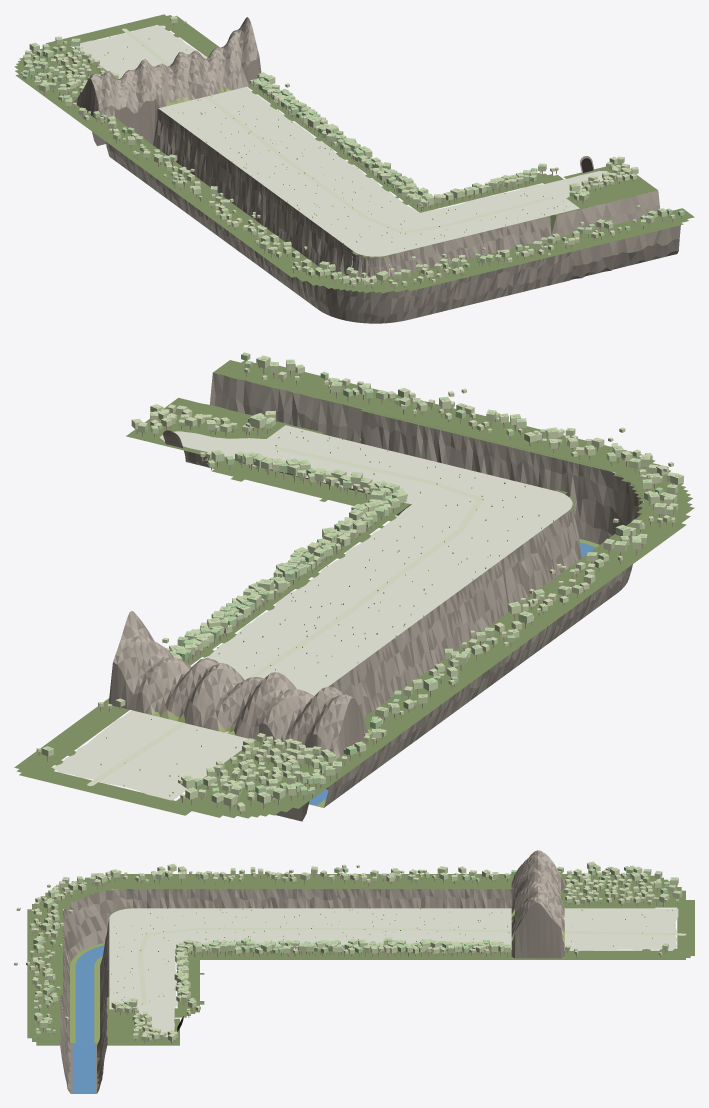
Rendered from codo.glb.
3 views of the same model, one above another, from view 1: azimuth 30°, elevation 25°; view 2: azimuth 150°, elevation 25°; view 3: azimuth 270°, elevation 25° (orthographic). The views are drawn at different scales.
Parts seen in each view (by area): view 1: CodoMeadow, CodoForestFloor, CodoOesteCanyon, CodoCierreRock, CodoSurCanyon, CodoEsteCanyon, CodoEsquinaCanyon, CodoPath, CodoCuevaMeadow; view 2: CodoMeadow, CodoForestFloor, CodoOesteCanyon, CodoCierreRock, CodoSurCanyon, CodoEsteCanyon, CodoEsquinaCanyon, CodoPath, CodoCuevaMeadow, CodoNorteForestFloor, CodoCuevaForestFloor; view 3: CodoMeadow, CodoForestFloor, CodoOesteCanyon, CodoCierreRock, CodoEsquinaCanyon, CodoSurCanyon, CodoEsteCanyon, CodoRio, CodoPath, CodoEsteRio, CodoNorteForestFloor, CodoCuevaMeadow (+1 smaller).
Part boxes in pixels (x1,y1,x2,y2): CodoMeadow: (74, 25, 579, 256); CodoForestFloor: (14, 14, 694, 293); CodoOesteCanyon: (106, 108, 353, 309); CodoCierreRock: (73, 17, 261, 145); CodoSurCanyon: (388, 216, 574, 319); CodoEsteCanyon: (550, 188, 685, 279); CodoEsquinaCanyon: (314, 253, 411, 323); CodoPath: (122, 28, 551, 233); CodoCuevaMeadow: (541, 171, 608, 200); CodoMeadow: (52, 425, 572, 800); CodoForestFloor: (14, 360, 694, 818); CodoOesteCanyon: (309, 512, 622, 807); CodoCierreRock: (109, 611, 371, 821); CodoSurCanyon: (346, 411, 590, 542); CodoEsteCanyon: (174, 369, 366, 483); CodoEsquinaCanyon: (567, 467, 642, 592); CodoPath: (87, 446, 483, 786); CodoCuevaMeadow: (159, 431, 274, 458); CodoNorteForestFloor: (189, 739, 315, 804); CodoCuevaForestFloor: (126, 416, 235, 455); CodoMeadow: (109, 908, 678, 1009); CodoForestFloor: (27, 874, 694, 1045); CodoOesteCanyon: (133, 889, 511, 950); CodoCierreRock: (511, 850, 564, 958); CodoEsquinaCanyon: (63, 888, 132, 966); CodoSurCanyon: (60, 920, 109, 1043); CodoEsteCanyon: (54, 995, 113, 1093); CodoRio: (75, 945, 104, 1042); CodoPath: (138, 928, 686, 1004); CodoEsteRio: (72, 1043, 94, 1093); CodoNorteForestFloor: (561, 886, 654, 908); CodoCuevaMeadow: (137, 1007, 174, 1036).
Size of the model in its own units: 186 by 51.18 by 308.
